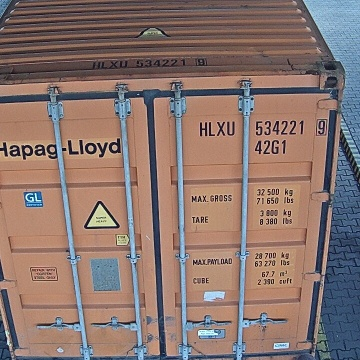serial_id: (200, 119, 327, 136)
